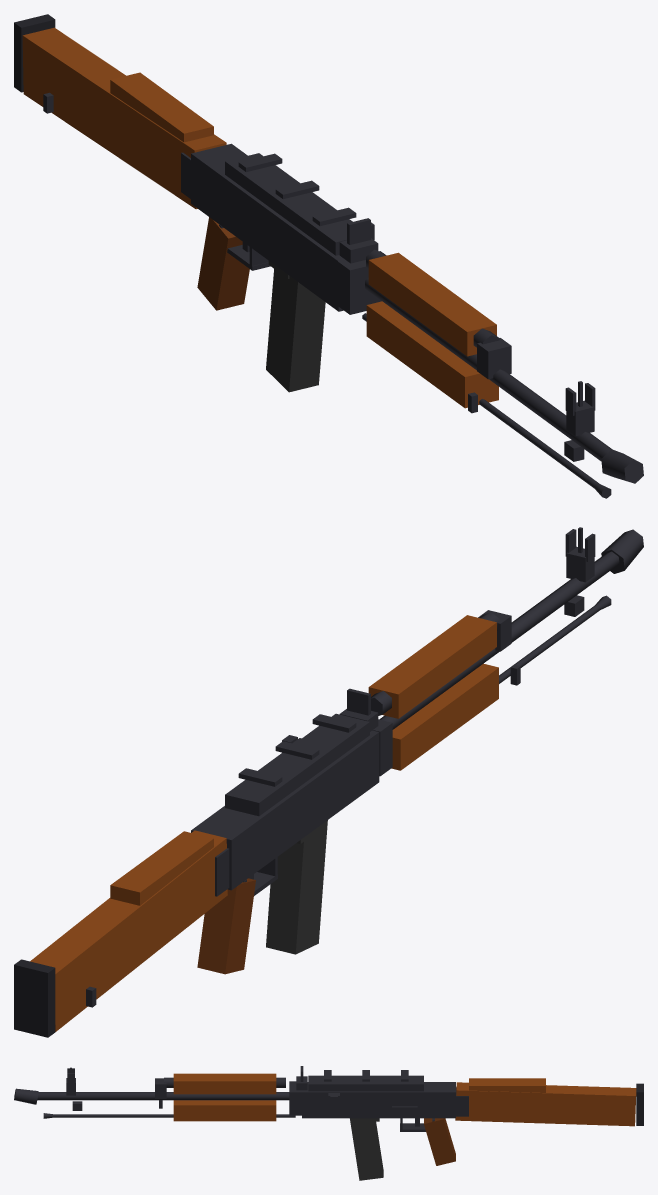
3 views of the same model, one above another, from view 1: azimuth 30°, elevation 25°; view 2: azimuth 150°, elevation 25°; view 3: azimuth 270°, elevation 25° (orthographic). The views are drawn at different scales.
Visible parts, largest first — view 1: Mesh_Stock, Mesh_Receiver, Mesh_UpperHandguard, Mesh_Magazine, Mesh_LowerHandguard, Mesh_DustCover, Mesh_StockComb, Mesh_PistolGrip, Mesh_Barrel, Mesh_Trunnion, Mesh_ButtPad, Mesh_GasBlock (+3 smaller); view 2: Mesh_Stock, Mesh_Receiver, Mesh_UpperHandguard, Mesh_Magazine, Mesh_LowerHandguard, Mesh_DustCover, Mesh_PistolGrip, Mesh_StockComb, Mesh_ButtPad, Mesh_Barrel, Mesh_MuzzleBrake, Mesh_CleaningRod (+2 smaller); view 3: Mesh_Stock, Mesh_Receiver, Mesh_LowerHandguard, Mesh_UpperHandguard, Mesh_Barrel, Mesh_DustCover, Mesh_Magazine, Mesh_StockComb, Mesh_PistolGrip, Mesh_CleaningRod, Mesh_Trunnion, Mesh_ButtPad (+5 smaller).
Part boxes in pixels (box(x1,y1,x2,y2)): Mesh_Stock: box(22, 27, 226, 209); Mesh_Receiver: box(191, 143, 344, 311); Mesh_UpperHandguard: box(368, 252, 496, 356); Mesh_Magazine: box(266, 269, 325, 392); Mesh_LowerHandguard: box(366, 301, 498, 408); Mesh_DustCover: box(225, 153, 352, 255); Mesh_StockComb: box(110, 72, 213, 142); Mesh_PistolGrip: box(197, 217, 249, 310); Mesh_Barrel: box(365, 278, 612, 461); Mesh_Trunnion: box(337, 251, 381, 314); Mesh_ButtPad: box(14, 14, 55, 92); Mesh_GasBlock: box(477, 338, 511, 379); Mesh_Stock: box(30, 830, 227, 1031); Mesh_Receiver: box(191, 730, 379, 890); Mesh_UpperHandguard: box(368, 615, 496, 718); Mesh_Magazine: box(266, 820, 327, 954); Mesh_LowerHandguard: box(391, 663, 498, 770); Mesh_DustCover: box(225, 713, 369, 816); Mesh_PistolGrip: box(197, 878, 255, 974); Mesh_StockComb: box(110, 831, 213, 905); Mesh_ButtPad: box(14, 959, 55, 1037); Mesh_Barrel: box(379, 551, 619, 729); Mesh_MuzzleBrake: box(601, 529, 643, 573); Mesh_CleaningRod: box(499, 604, 600, 683); Mesh_Stock: box(455, 1082, 636, 1126); Mesh_Receiver: box(302, 1082, 455, 1118); Mesh_LowerHandguard: box(173, 1100, 276, 1121); Mesh_UpperHandguard: box(173, 1073, 276, 1094); Mesh_Barrel: box(37, 1092, 289, 1100); Mesh_DustCover: box(308, 1075, 423, 1091); Mesh_Magazine: box(350, 1118, 383, 1180); Mesh_StockComb: box(469, 1078, 545, 1092); Mesh_PistolGrip: box(424, 1118, 455, 1165); Mesh_CleaningRod: box(53, 1114, 295, 1117); Mesh_Trunnion: box(289, 1081, 301, 1115); Mesh_ButtPad: box(636, 1083, 643, 1125).
Bounding box in the file's own units: 0.063 × 0.1876 × 0.982.
